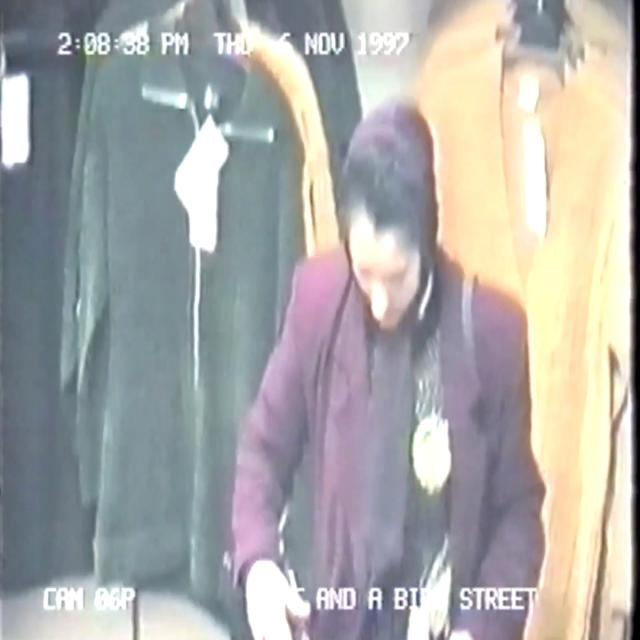normal: (215, 3, 573, 640)
